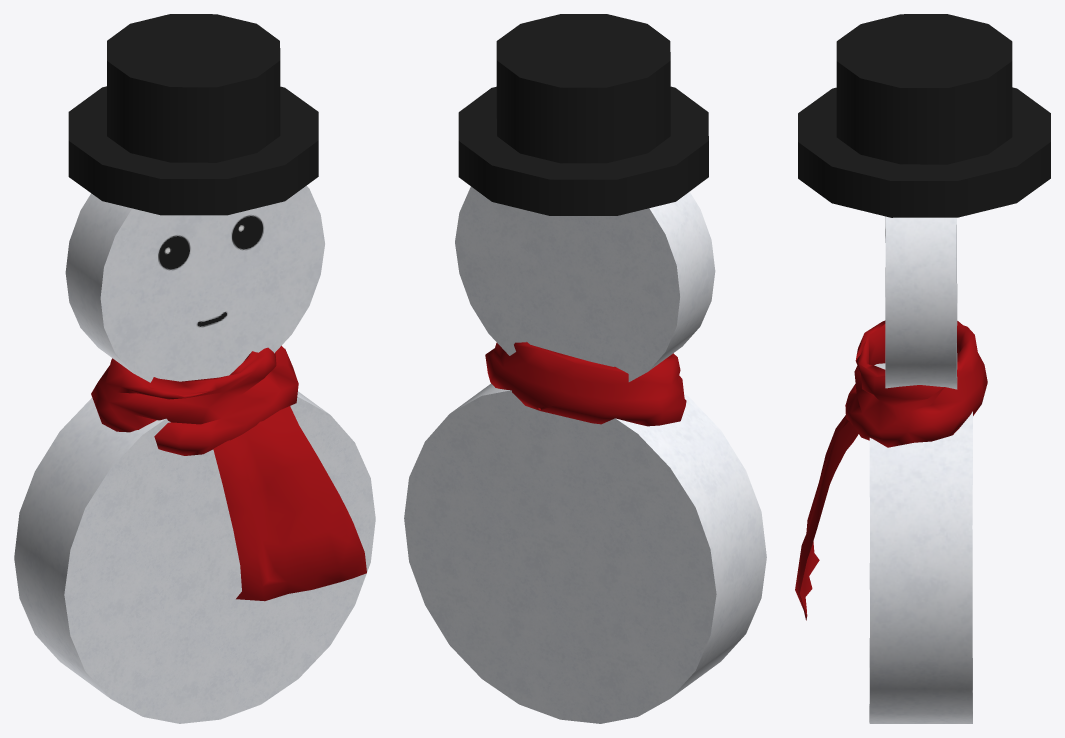
The model's file is BonhommeNeige.fbx.
The picture shows the model from 3 angles, left to right: view 1: azimuth 30°, elevation 25°; view 2: azimuth 150°, elevation 25°; view 3: azimuth 270°, elevation 25°; orthographic projection.
Parts seen in each view (by area): view 1: BonhommeNeige; view 2: BonhommeNeige; view 3: BonhommeNeige.
Part boxes in pixels (bbox=[...]): BonhommeNeige: bbox=[14, 14, 375, 723]; BonhommeNeige: bbox=[404, 14, 766, 723]; BonhommeNeige: bbox=[795, 14, 1050, 723].
Size of the model in its own units: 33 by 65.79 by 23.25.
